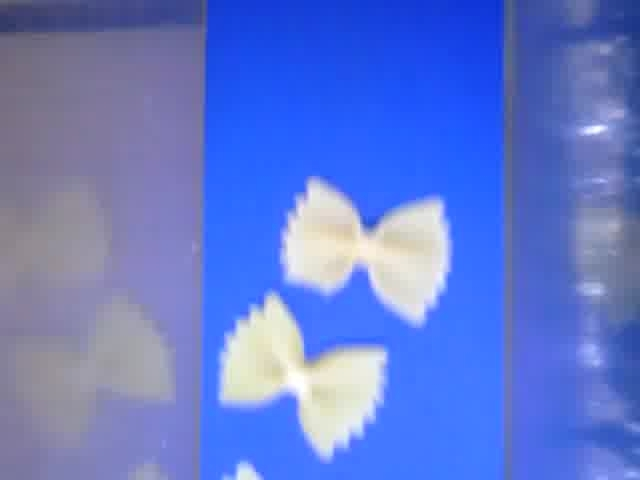farfalle: (217, 292, 390, 461), (279, 177, 452, 328)
